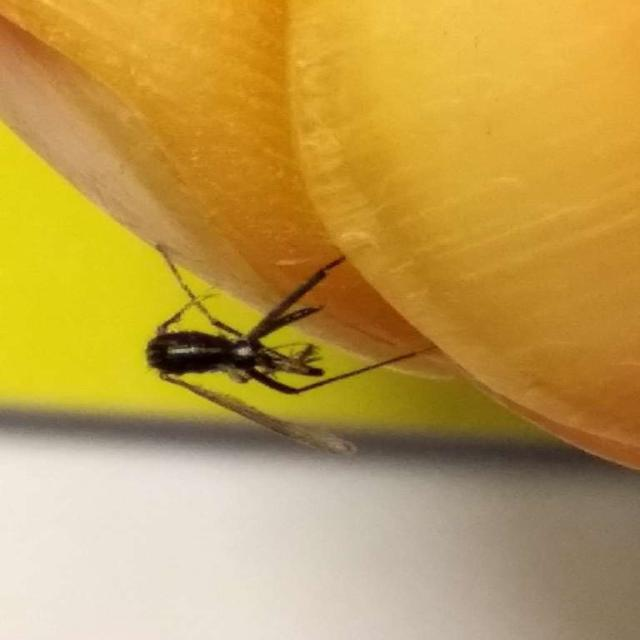albopictus: (66, 202, 437, 445)
